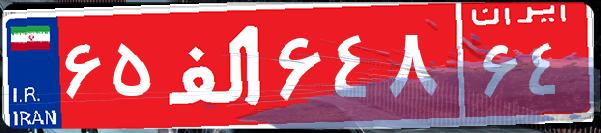4: (330, 28, 385, 110), (525, 38, 570, 115)
5: (110, 28, 158, 105)
6: (273, 28, 330, 110), (57, 26, 110, 107), (475, 38, 525, 113)
8: (385, 28, 445, 110)
الف: (158, 15, 273, 115)
